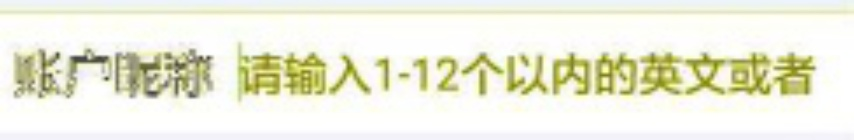EditText: (1, 1, 853, 139)
